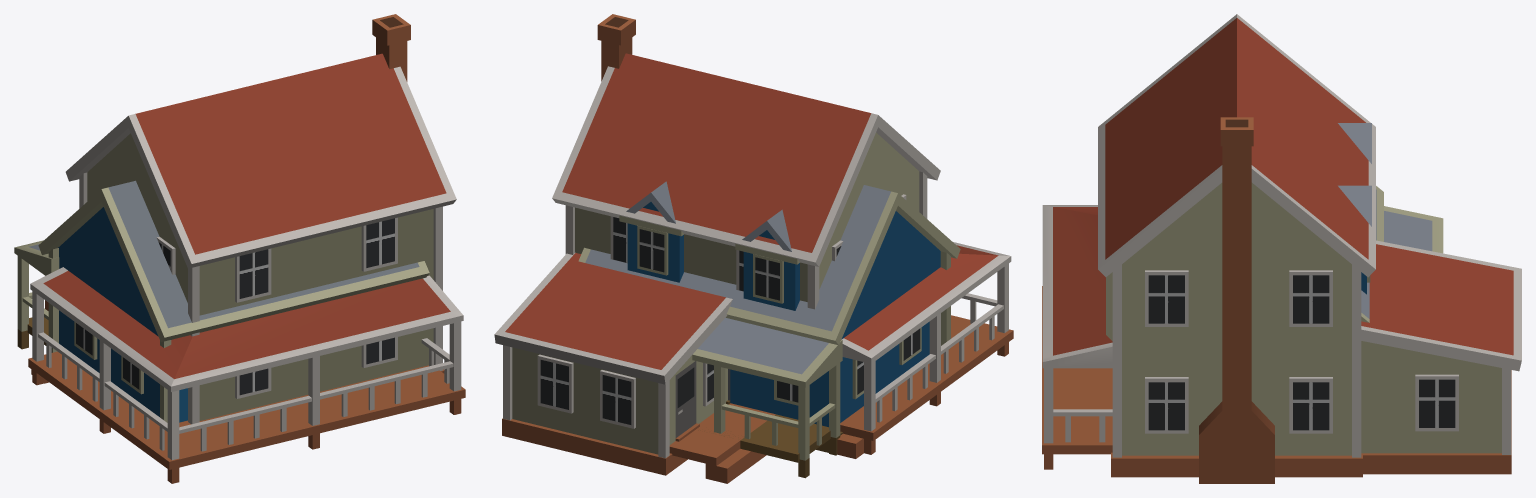
File: houses.fbx
3 renders of one model, left to right at view 1: azimuth 30°, elevation 25°; view 2: azimuth 150°, elevation 25°; view 3: azimuth 270°, elevation 25°, orthographic. The views are drawn at different scales.
Visible parts, largest first — view 1: Building_house2, Building_house1; view 2: Building_house2, Building_house1; view 3: Building_house2, Building_house1.
Boxes of the visible parts, x1,y1,x2,y2 form: Building_house2: (28,14,465,483); Building_house1: (14,180,429,422); Building_house2: (494,14,1013,483); Building_house1: (578,181,960,478); Building_house2: (1042,14,1521,483); Building_house1: (1106,123,1443,340).
Size of what is drawn, in the model's own units: 17.95 by 17.15 by 20.98.
1 material, 1 textured.
